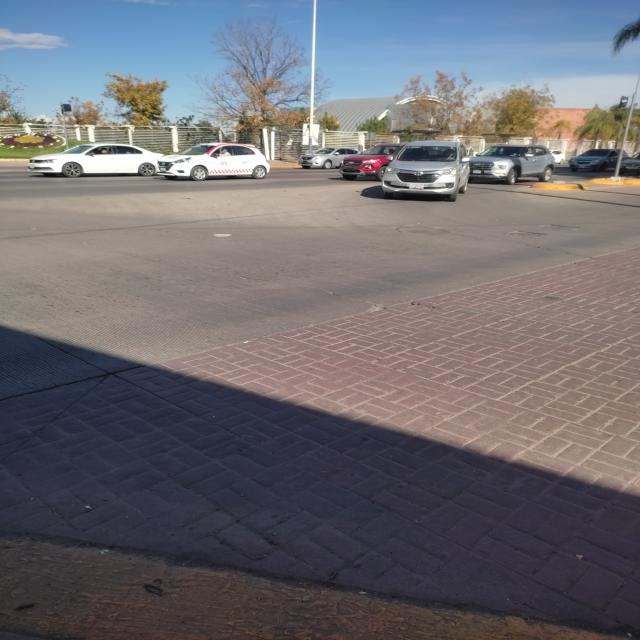Auto: (21, 125, 169, 188), (150, 123, 278, 182), (384, 131, 469, 215), (472, 130, 552, 199), (332, 136, 395, 186), (289, 140, 367, 172), (560, 142, 622, 176)
